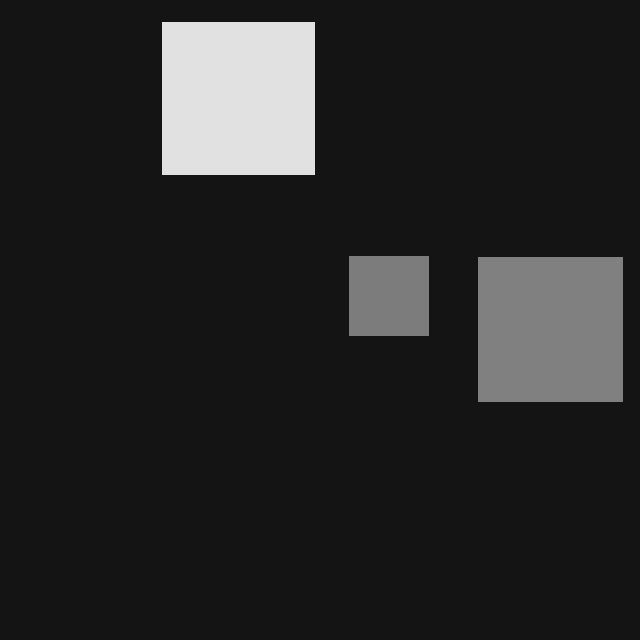square: (162, 22, 314, 174), (478, 257, 622, 401), (349, 256, 428, 335)
